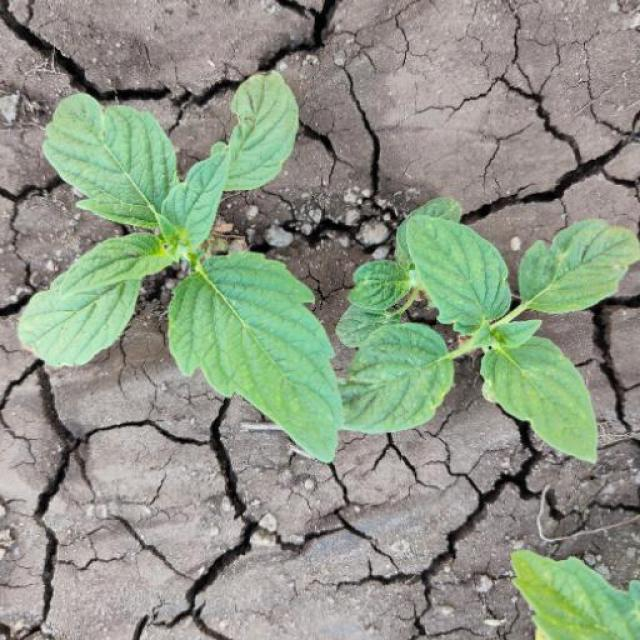crop: (39, 74, 344, 482), (340, 196, 640, 489)
